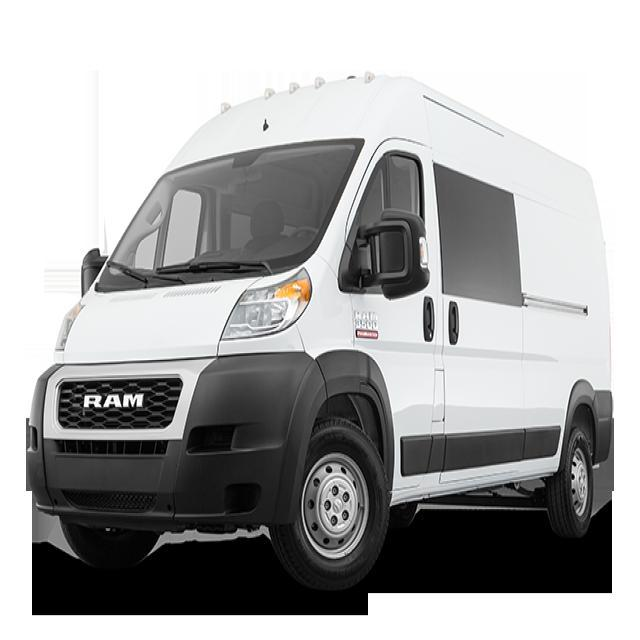truck: (25, 69, 614, 592)
